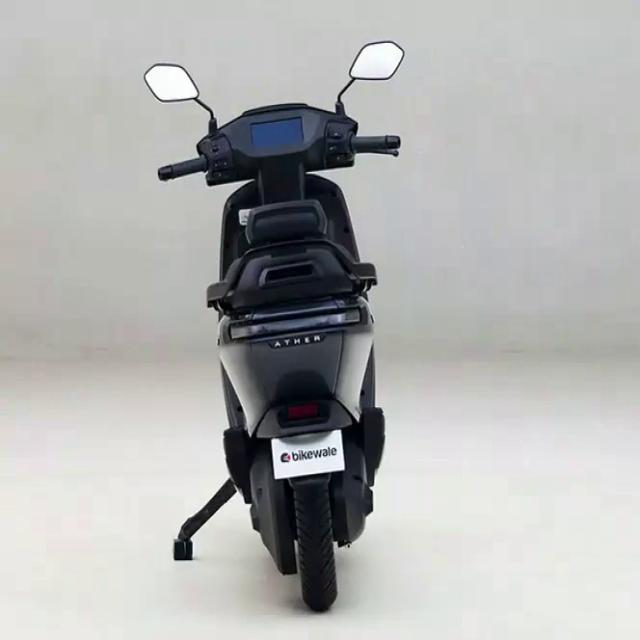objects: (130, 30, 450, 616)
